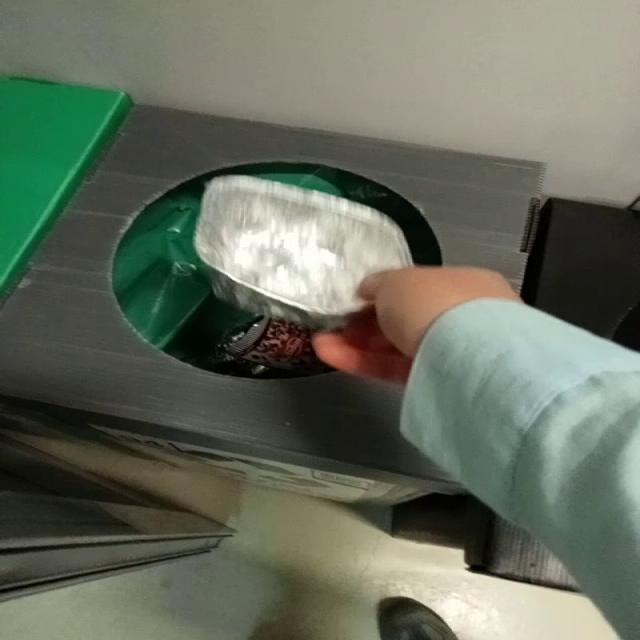bin: (3, 105, 544, 501)
metal: (195, 176, 413, 328)
